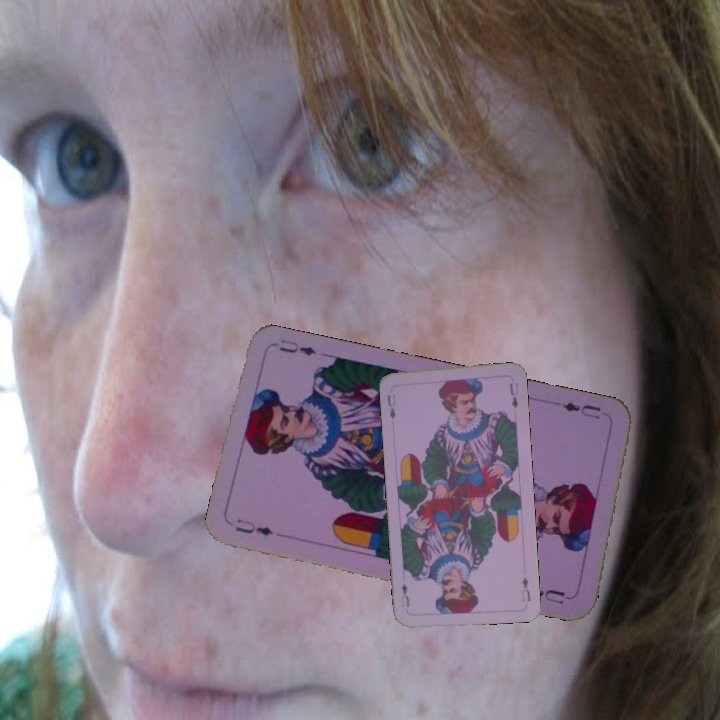EU: (231, 514, 276, 539), (558, 398, 603, 422), (383, 390, 398, 422), (518, 573, 533, 604)
